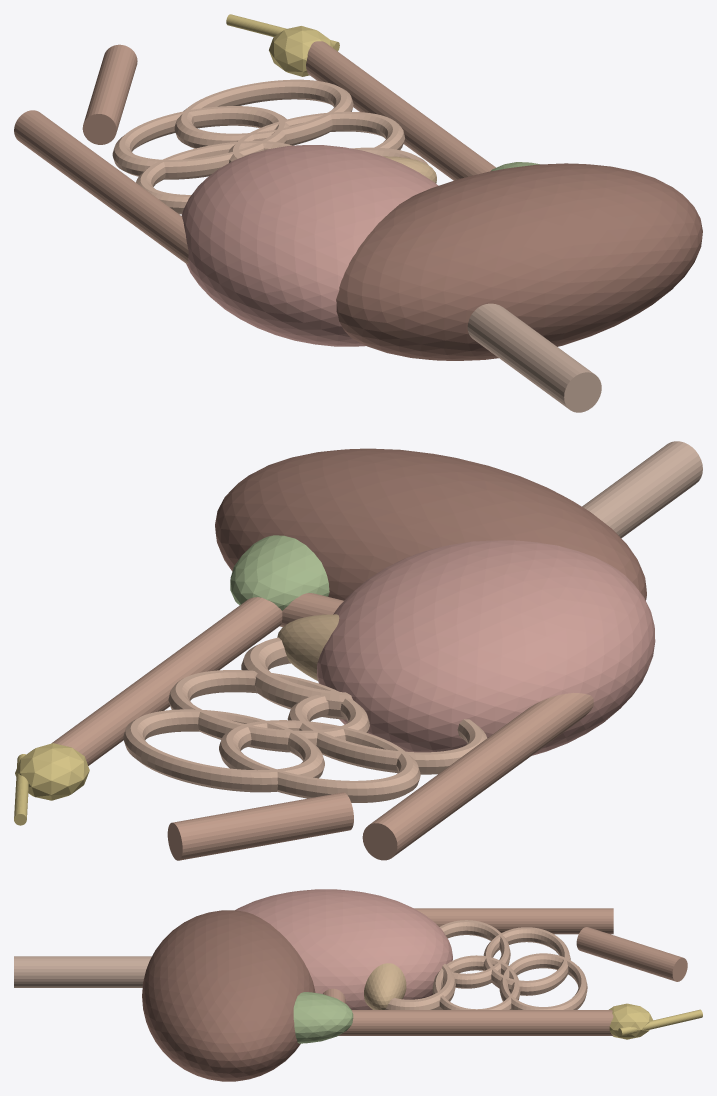
Rendered from digestive-g3-high.glb.
The picture shows the model from 3 angles, top to bottom: view 1: azimuth 30°, elevation 25°; view 2: azimuth 150°, elevation 25°; view 3: azimuth 270°, elevation 25°; orthographic projection. The views are drawn at different scales.
Visible parts, largest first — view 1: liver, stomach, descending_colon, ascending_colon, esophagus, small_intestine_loop_4, small_intestine_loop_3, sigmoid_colon_proxy, small_intestine_loop_2, small_intestine_loop_1, appendix_region_proxy, appendix_proxy; view 2: stomach, liver, descending_colon, ascending_colon, sigmoid_colon_proxy, small_intestine_loop_4, small_intestine_loop_3, esophagus, small_intestine_loop_2, gallbladder_proxy, small_intestine_loop_1, duodenum_proxy (+4 smaller); view 3: liver, stomach, ascending_colon, esophagus, descending_colon, sigmoid_colon_proxy, gallbladder_proxy, small_intestine_loop_3, small_intestine_loop_4, small_intestine_loop_1, small_intestine_loop_2, pancreas (+3 smaller).
Part boxes in pixels (<box>): liver: <box>336,163,702,360</box>; stomach: <box>181,145,438,346</box>; descending_colon: <box>14,110,188,263</box>; ascending_colon: <box>306,41,495,180</box>; esophagus: <box>467,303,601,412</box>; small_intestine_loop_4: <box>174,79,353,148</box>; small_intestine_loop_3: <box>112,106,289,179</box>; sigmoid_colon_proxy: <box>82,44,137,144</box>; small_intestine_loop_2: <box>228,111,404,162</box>; small_intestine_loop_1: <box>136,141,291,214</box>; appendix_region_proxy: <box>269,26,333,76</box>; appendix_proxy: <box>226,14,339,51</box>; stomach: <box>316,540,655,755</box>; liver: <box>215,448,646,600</box>; descending_colon: <box>362,693,593,860</box>; ascending_colon: <box>51,597,282,765</box>; sigmoid_colon_proxy: <box>167,792,353,860</box>; small_intestine_loop_4: <box>123,709,324,792</box>; small_intestine_loop_3: <box>219,720,420,802</box>; esophagus: <box>582,441,702,538</box>; small_intestine_loop_2: <box>168,670,369,752</box>; gallbladder_proxy: <box>230,535,329,610</box>; small_intestine_loop_1: <box>287,695,487,774</box>; duodenum_proxy: <box>241,637,352,719</box>; liver: <box>142,910,315,1081</box>; stomach: <box>235,889,452,1009</box>; ascending_colon: <box>338,1010,613,1035</box>; esophagus: <box>14,956,151,987</box>; descending_colon: <box>414,908,613,934</box>; sigmoid_colon_proxy: <box>576,927,687,981</box>; gallbladder_proxy: <box>293,992,353,1043</box>; small_intestine_loop_3: <box>483,927,570,995</box>; small_intestine_loop_4: <box>499,953,587,1009</box>; small_intestine_loop_1: <box>439,920,510,988</box>; small_intestine_loop_2: <box>432,955,520,1009</box>; pancreas: <box>364,963,406,1009</box>.
Bounding box in the file's own units: 2.12 × 0.74 × 4.12.
